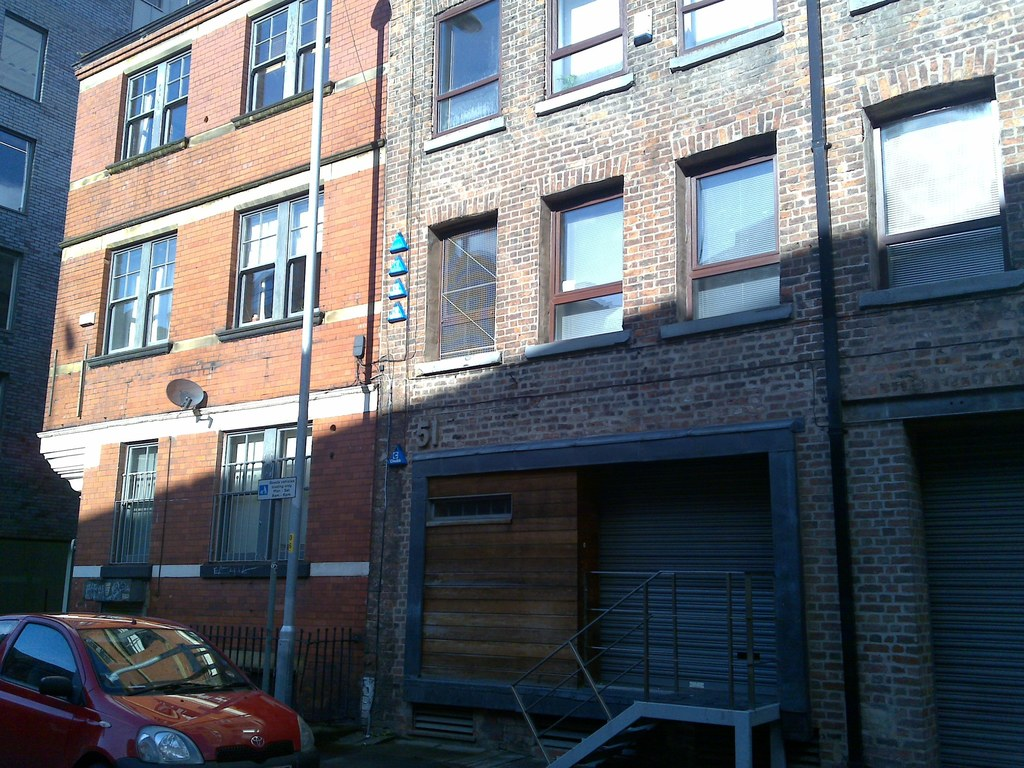Car: (0, 606, 318, 767)
